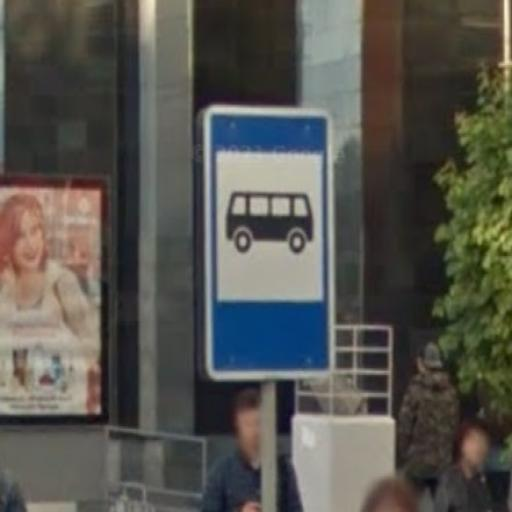traffic_sign: (205, 105, 336, 383)
